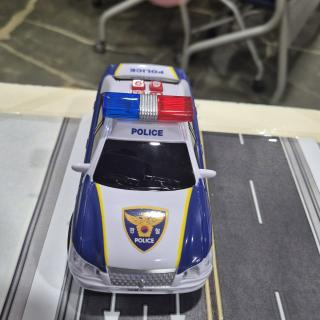Police_car: (69, 64, 216, 294)
